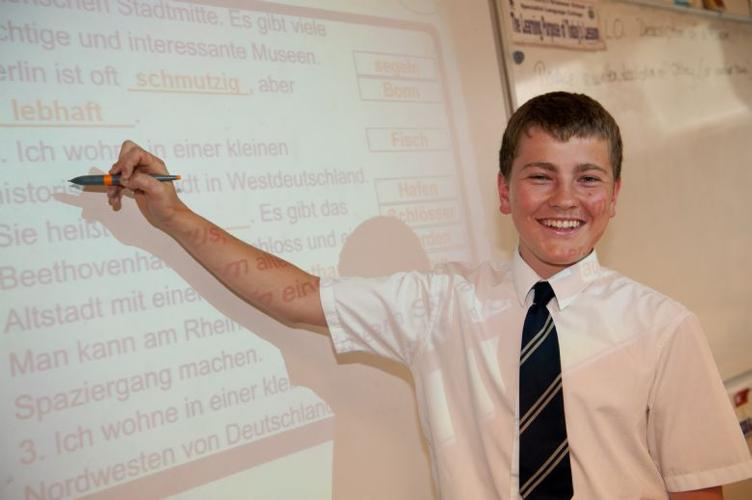person: (105, 91, 748, 500)
